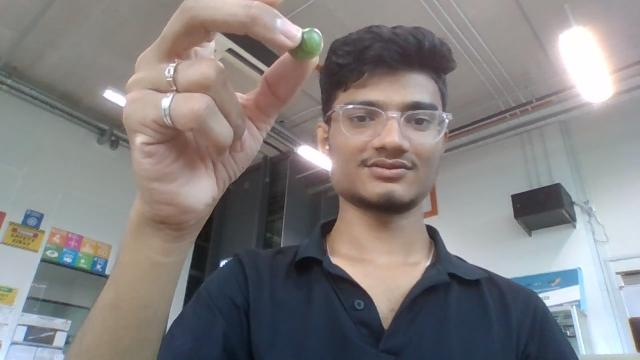Fruit Maturation: (289, 27, 323, 62)
